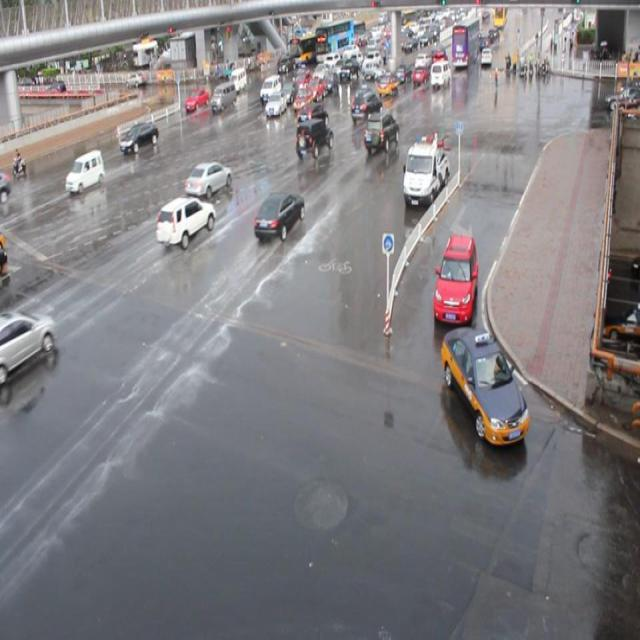BigCar: (445, 14, 492, 68)
car: (428, 326, 547, 487), (386, 124, 457, 210), (430, 222, 481, 332), (249, 172, 308, 252), (144, 193, 214, 248), (352, 99, 401, 157), (173, 153, 237, 195), (65, 152, 109, 200), (110, 122, 164, 160), (295, 125, 338, 163), (206, 76, 239, 120), (296, 94, 329, 136), (180, 78, 209, 122), (262, 84, 287, 125), (347, 88, 382, 117), (428, 61, 454, 94), (288, 84, 312, 119)
